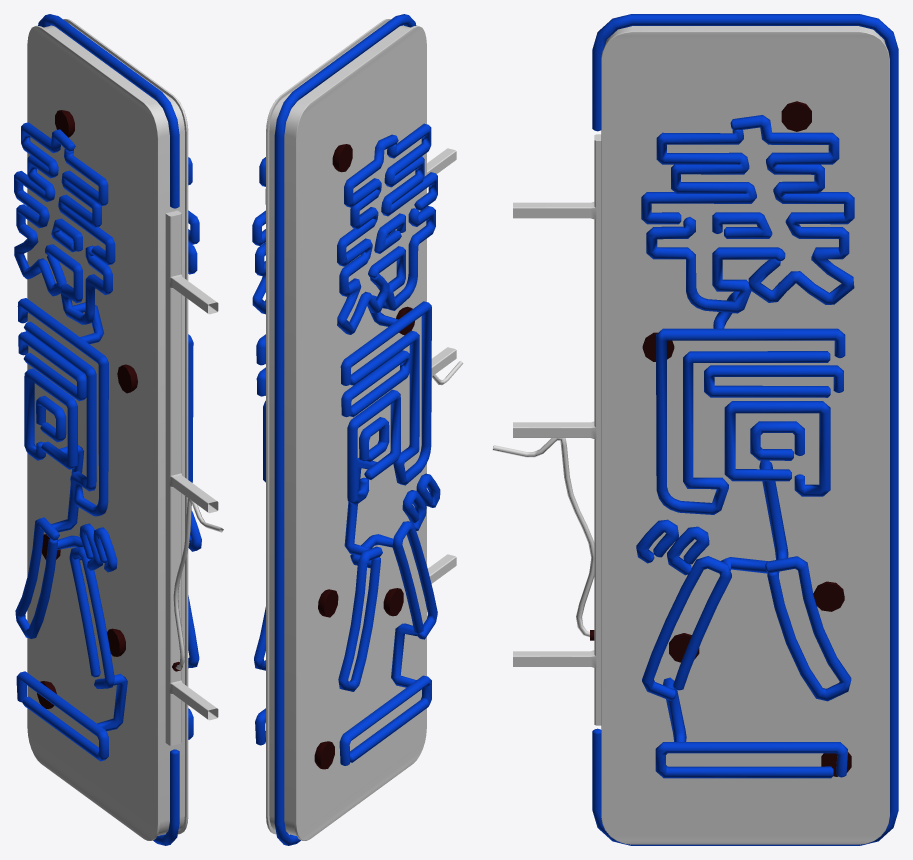
File: sign_neon_small_vert.fbx
The picture shows the model from 3 angles, left to right: view 1: azimuth 30°, elevation 25°; view 2: azimuth 150°, elevation 25°; view 3: azimuth 270°, elevation 25°; orthographic projection. The views are drawn at different scales.
Parts seen in each view (by area): view 1: sign_neon_small_vert; view 2: sign_neon_small_vert; view 3: sign_neon_small_vert.
Part boxes in pixels (x1,y1,x2,y2): sign_neon_small_vert: (14,14,223,845); sign_neon_small_vert: (252,14,463,845); sign_neon_small_vert: (492,14,898,845).
Bounding box in the file's own units: 24.78 × 82.58 × 186.
